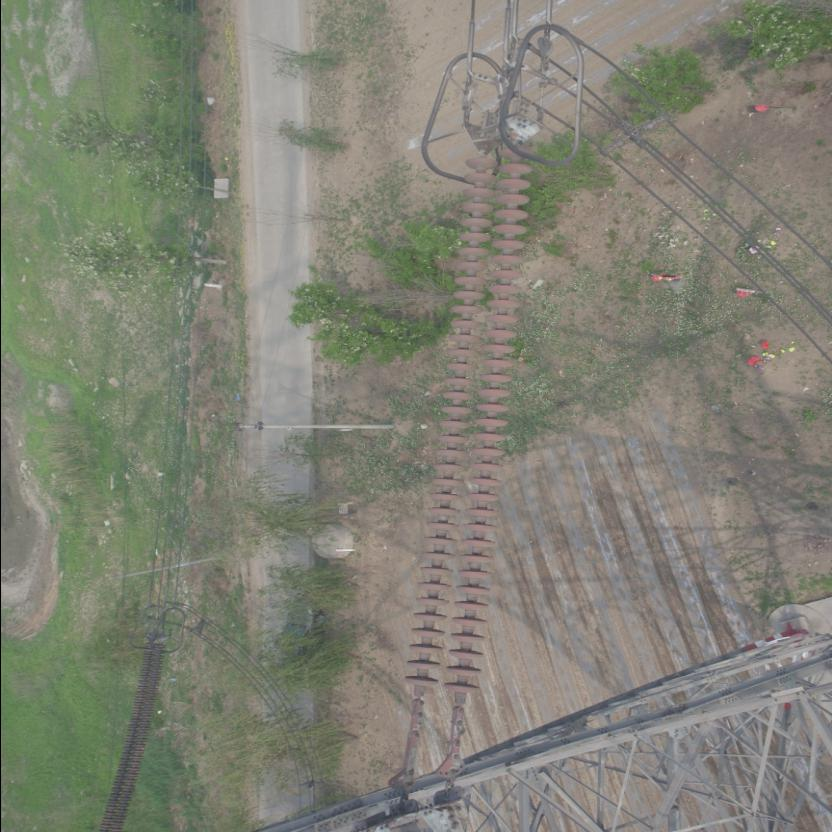insulator: (396, 132, 538, 744)
